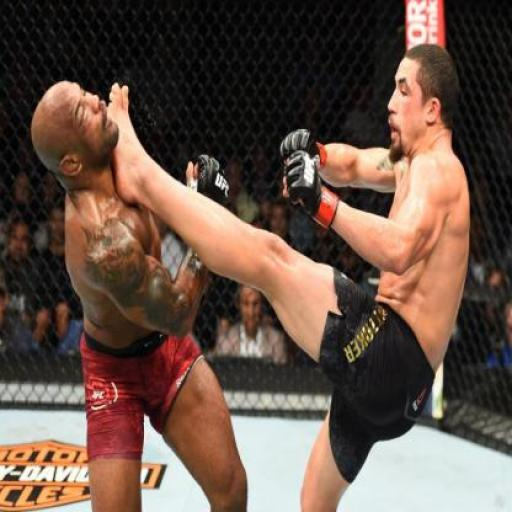Fighting: (31, 42, 498, 512)
